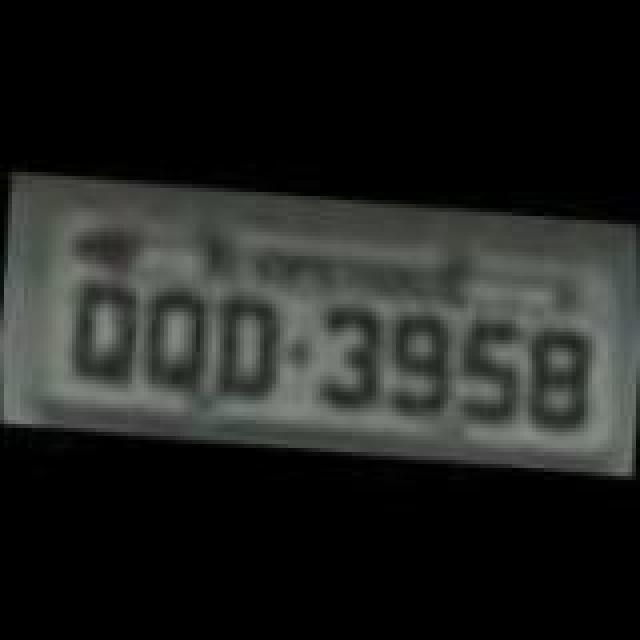3: (316, 304, 388, 408)
5: (454, 320, 522, 424)
8: (526, 320, 594, 428)
9: (384, 304, 448, 412)
D: (214, 286, 282, 394)
Q: (140, 286, 212, 394), (66, 284, 142, 384)
